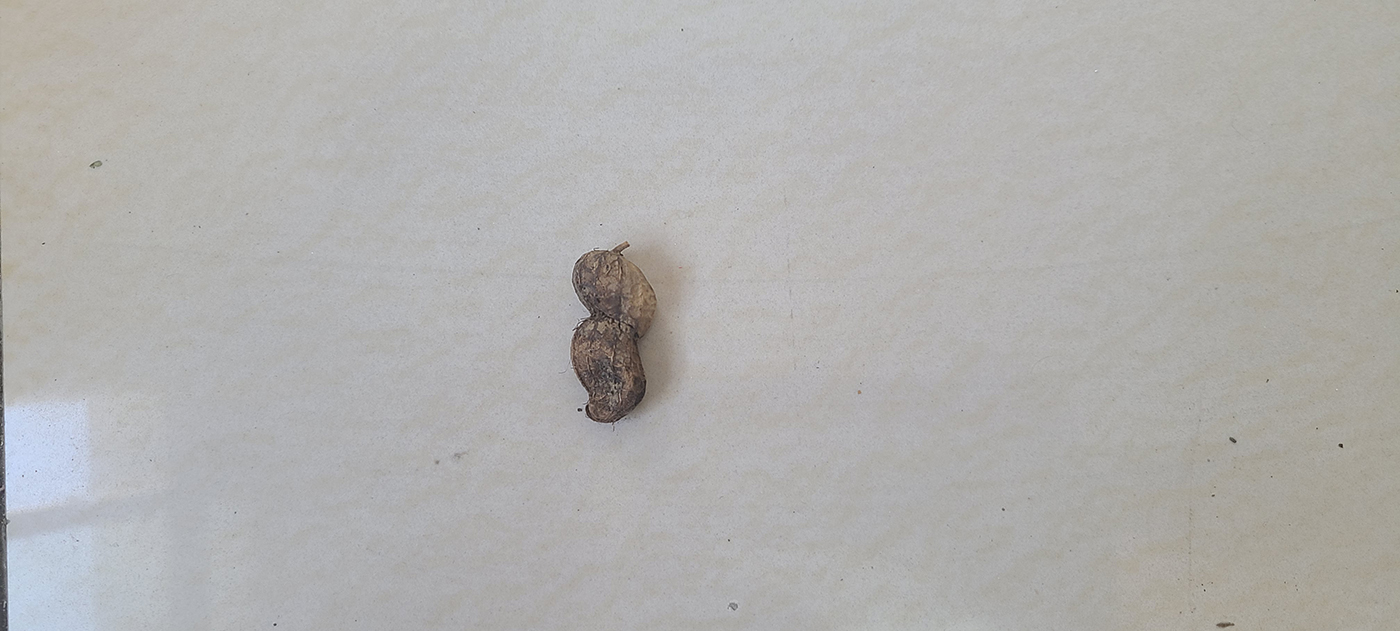l: (568, 240, 658, 424)
